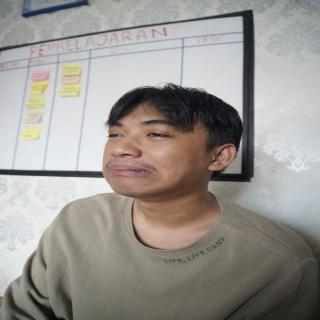Sedih: (99, 96, 220, 205)
